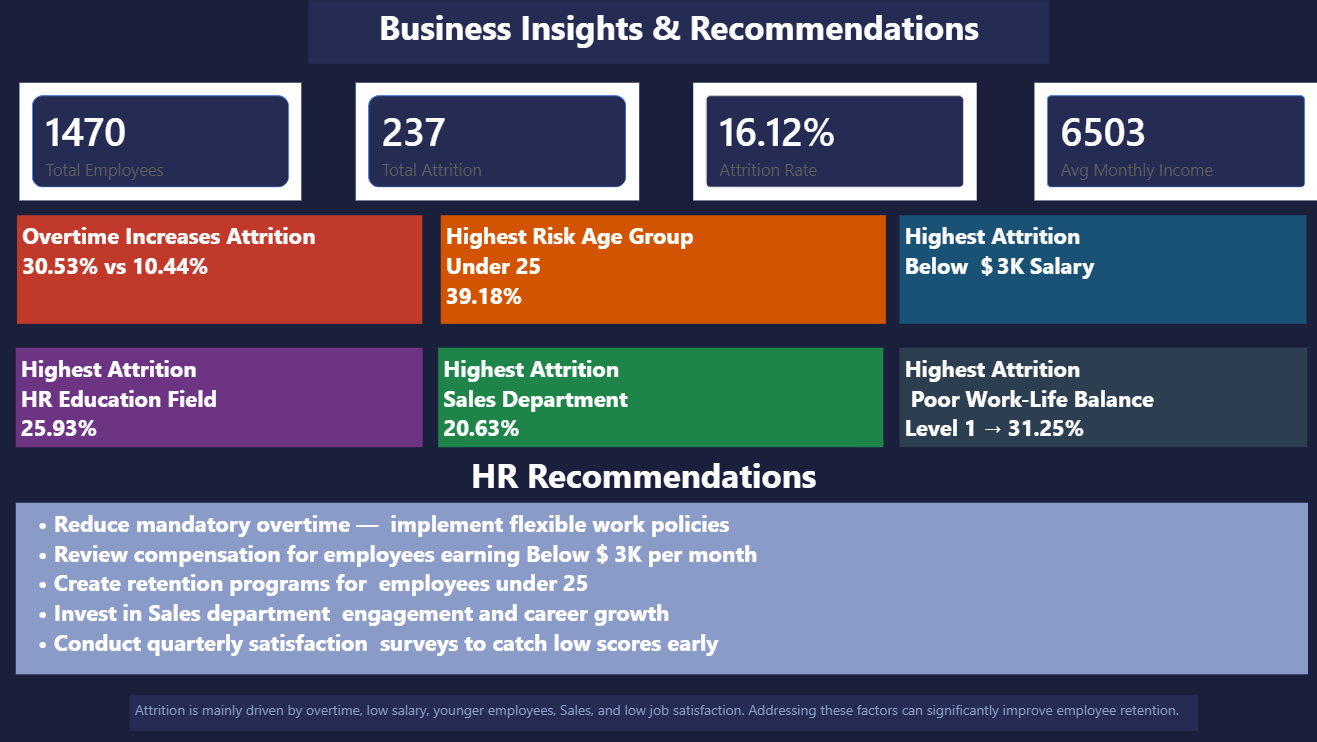

This screenshot's page, from the dashboard's own definition file:
{"tool":"powerbi","page":{"name":"Business Insights","canvas":[1280,720],"ordinal":2},"visuals":[{"type":"textbox","box":[300.4,0,715.4,62.7],"z":0},{"type":"textbox","box":[19.8,208.6,391.4,104.9],"z":1000},{"type":"textbox","box":[428.4,208.6,429.6,104.9],"z":2000},{"type":"textbox","box":[871.6,208.6,392.6,104.9],"z":3000},{"type":"textbox","box":[18.5,337,392.6,96.3],"z":4000},{"type":"textbox","box":[425.9,337,429.6,96.3],"z":5000},{"type":"textbox","box":[871.6,337,393.8,96.3],"z":6000},{"type":"textbox","box":[451.9,433.3,376.5,53.1],"z":7000},{"type":"textbox","box":[18.5,486.4,1246.9,165.4],"z":8000},{"type":"cardVisual","fields":{"Data":["hr_analytics hr_data.Total Employees"]},"box":[17.3,76.5,282.7,123.5],"z":9000},{"type":"cardVisual","fields":{"Data":["hr_analytics hr_data.Total Attrition"]},"box":[342,76.5,284,123.5],"z":10000},{"type":"cardVisual","fields":{"Data":["hr_analytics hr_data.Attrition Rate"]},"box":[666.7,76.5,284,123.5],"z":11000},{"type":"cardVisual","fields":{"Data":["hr_analytics hr_data.Avg Monthly Income Display"]},"box":[996.3,76.5,284,123.5],"z":12000},{"type":"textbox","box":[128.4,671.6,1030.9,34.6],"z":13000}]}

Visuals, with their boxes in screenshot pixels (x1, y1, x2, y2), scaled from the page's 1280x720 canvas onto the 1317x742 screenshot:
textbox: left=309, top=0, right=1045, bottom=65
textbox: left=20, top=215, right=423, bottom=323
textbox: left=441, top=215, right=883, bottom=323
textbox: left=897, top=215, right=1301, bottom=323
textbox: left=19, top=347, right=423, bottom=447
textbox: left=438, top=347, right=880, bottom=447
textbox: left=897, top=347, right=1302, bottom=447
textbox: left=465, top=447, right=852, bottom=501
textbox: left=19, top=501, right=1302, bottom=672
cardVisual - hr_analytics hr_data.Total Employees: left=18, top=79, right=309, bottom=206
cardVisual - hr_analytics hr_data.Total Attrition: left=352, top=79, right=644, bottom=206
cardVisual - hr_analytics hr_data.Attrition Rate: left=686, top=79, right=978, bottom=206
cardVisual - hr_analytics hr_data.Avg Monthly Income Display: left=1025, top=79, right=1316, bottom=206
textbox: left=132, top=692, right=1193, bottom=728
